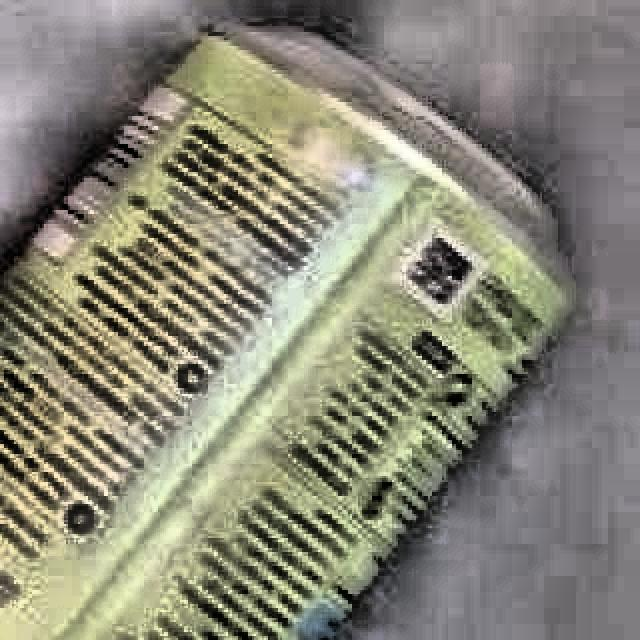metal: (0, 22, 579, 640)
